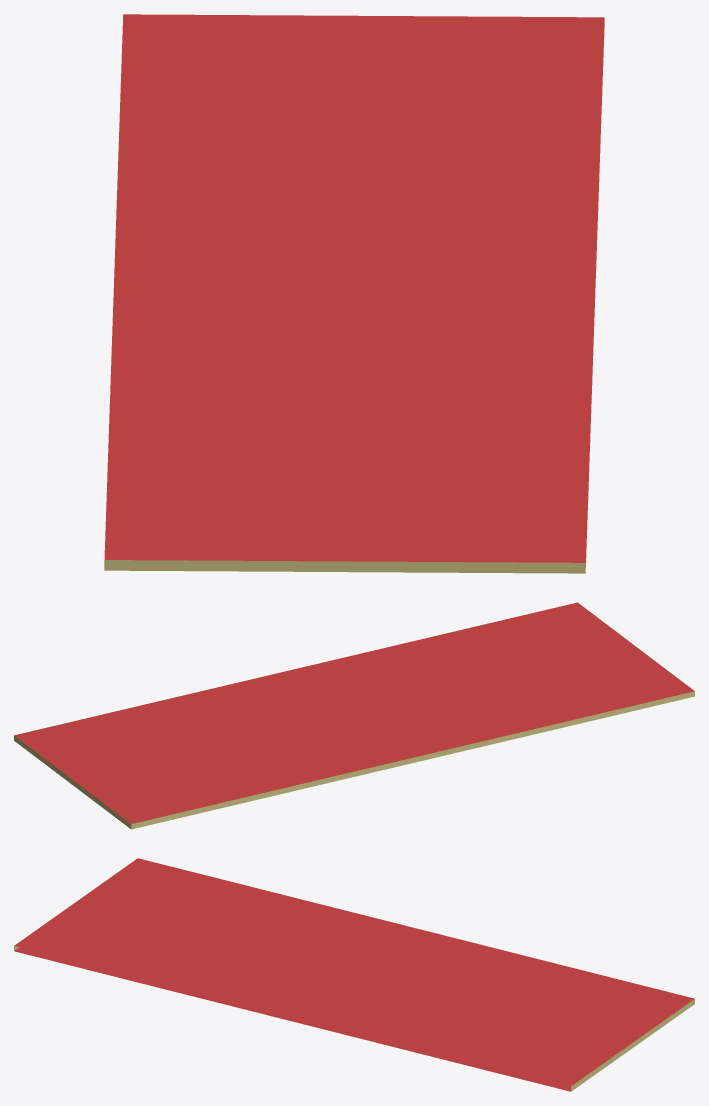
3 renders of one model, top to bottom at view 1: azimuth 30°, elevation 25°; view 2: azimuth 150°, elevation 25°; view 3: azimuth 270°, elevation 25°, orthographic. The views are drawn at different scales.
Visible parts, largest first — view 1: group_3, group_4; view 2: group_3, group_4; view 3: group_3, group_5, group_4.
Part boxes in pixels (x1,y1,x2,y2): group_3: [104, 14, 604, 562]; group_4: [104, 17, 604, 573]; group_3: [14, 602, 694, 823]; group_4: [14, 691, 694, 829]; group_3: [14, 858, 694, 1086]; group_5: [14, 947, 570, 1091]; group_4: [14, 946, 694, 1091].
Bounding box in the file's own units: 9.11 × 11.48 × 0.1.
